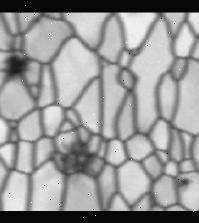good_void: (45, 133, 102, 182), (0, 49, 36, 83), (178, 174, 196, 188)
